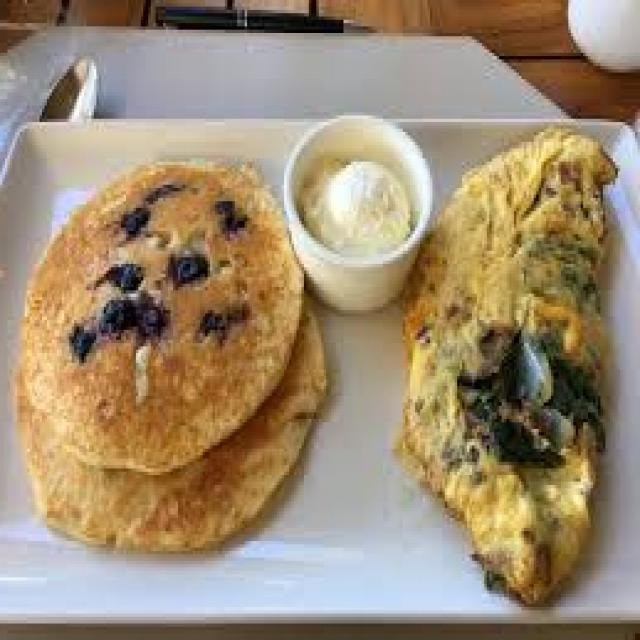Omelette: (405, 122, 620, 600)
Pancakes: (24, 145, 323, 551)
